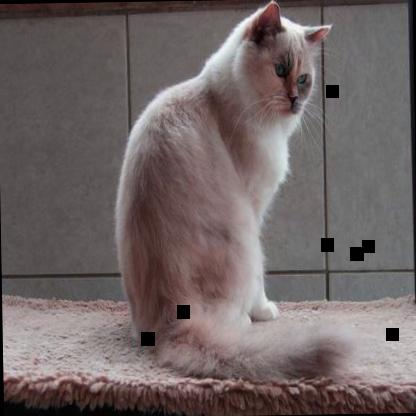cat: (110, 0, 365, 388)
